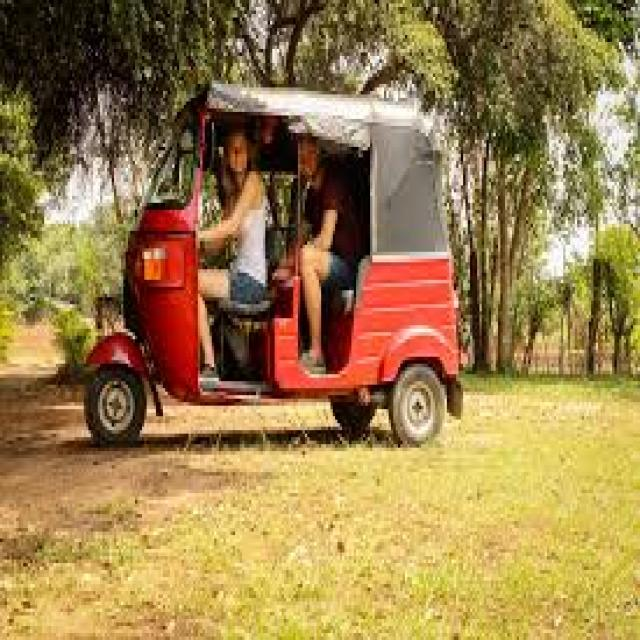tuktuk: (65, 27, 482, 483)
